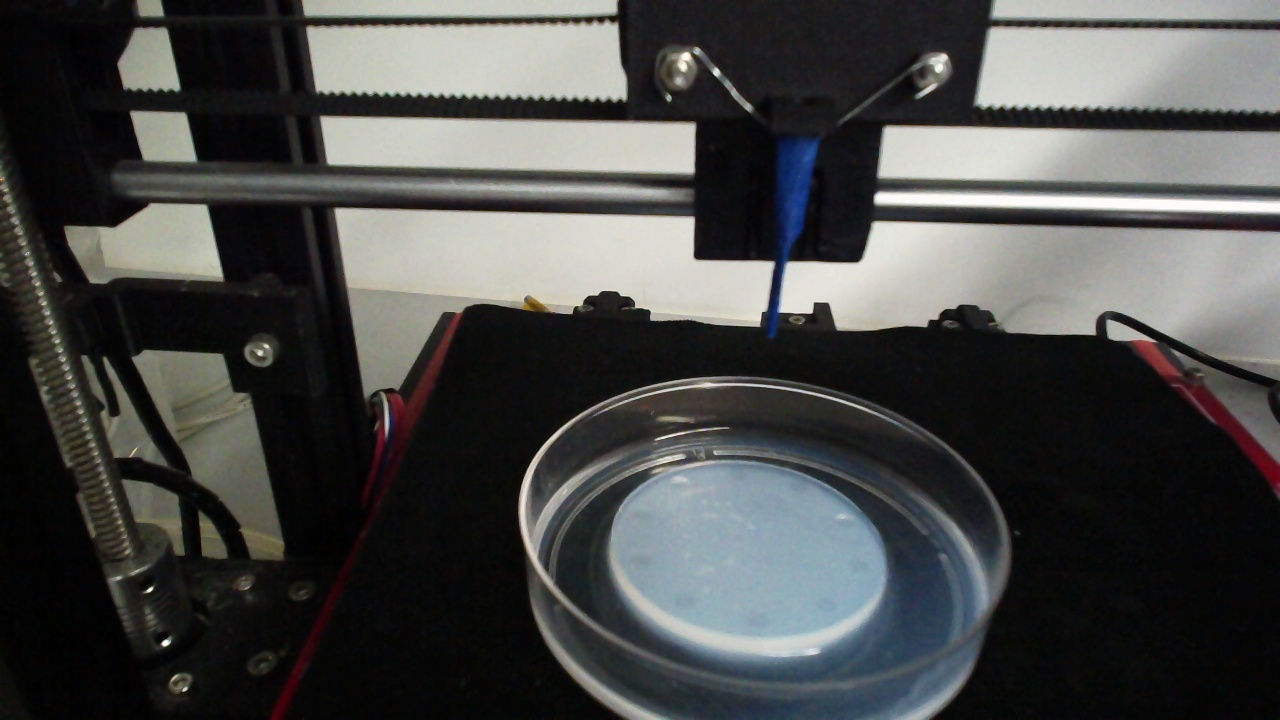groove: (744, 610, 770, 630), (846, 556, 873, 575), (813, 595, 837, 614), (627, 551, 653, 568), (832, 512, 858, 529), (630, 506, 655, 523), (671, 592, 695, 609), (668, 475, 690, 492), (787, 479, 809, 494), (728, 467, 748, 483)
needle: (766, 138, 818, 338)
